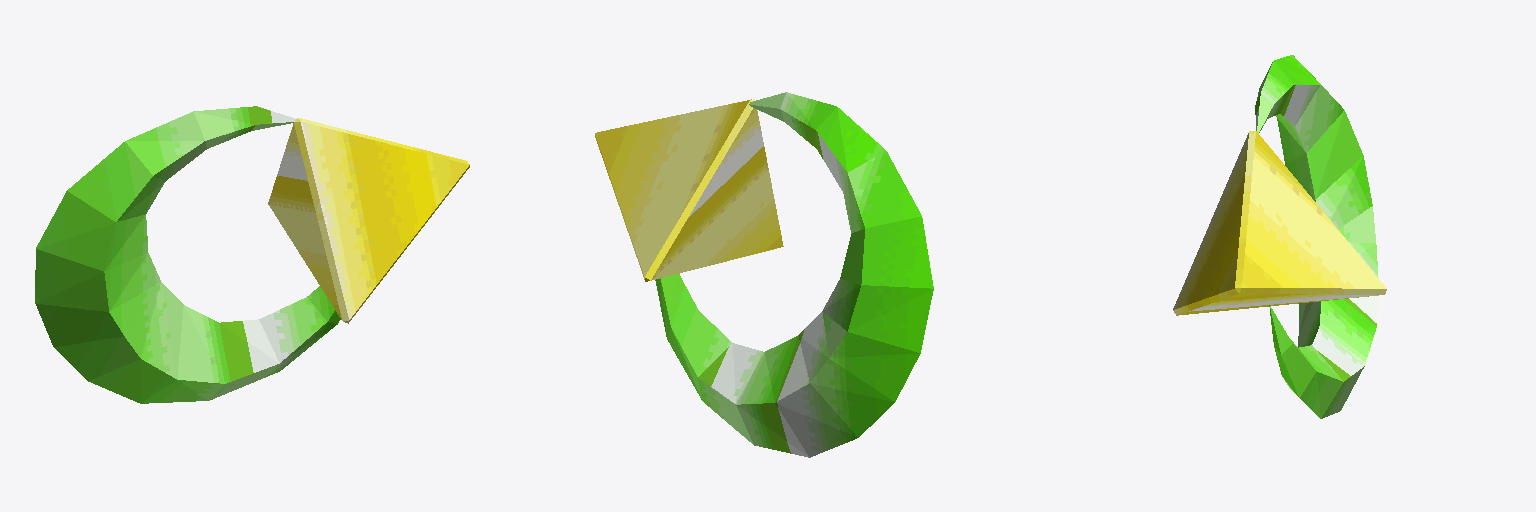
3 views of the same model, side by side, from view 1: azimuth 30°, elevation 25°; view 2: azimuth 150°, elevation 25°; view 3: azimuth 270°, elevation 25° (orthographic).
Parts seen in each view (by area): view 1: MinUVFixed; view 2: MinUVFixed; view 3: MinUVFixed.
Part boxes in pixels (bbox=[...]): MinUVFixed: bbox=[35, 106, 469, 403]; MinUVFixed: bbox=[595, 92, 933, 457]; MinUVFixed: bbox=[1173, 55, 1386, 418].
Bounding box in the file's own units: 13.05 × 10.54 × 6.28.
2 materials, 2 textured.